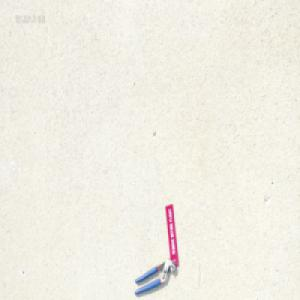Label: (165, 203, 179, 265)
Pliers: (134, 257, 175, 294)
